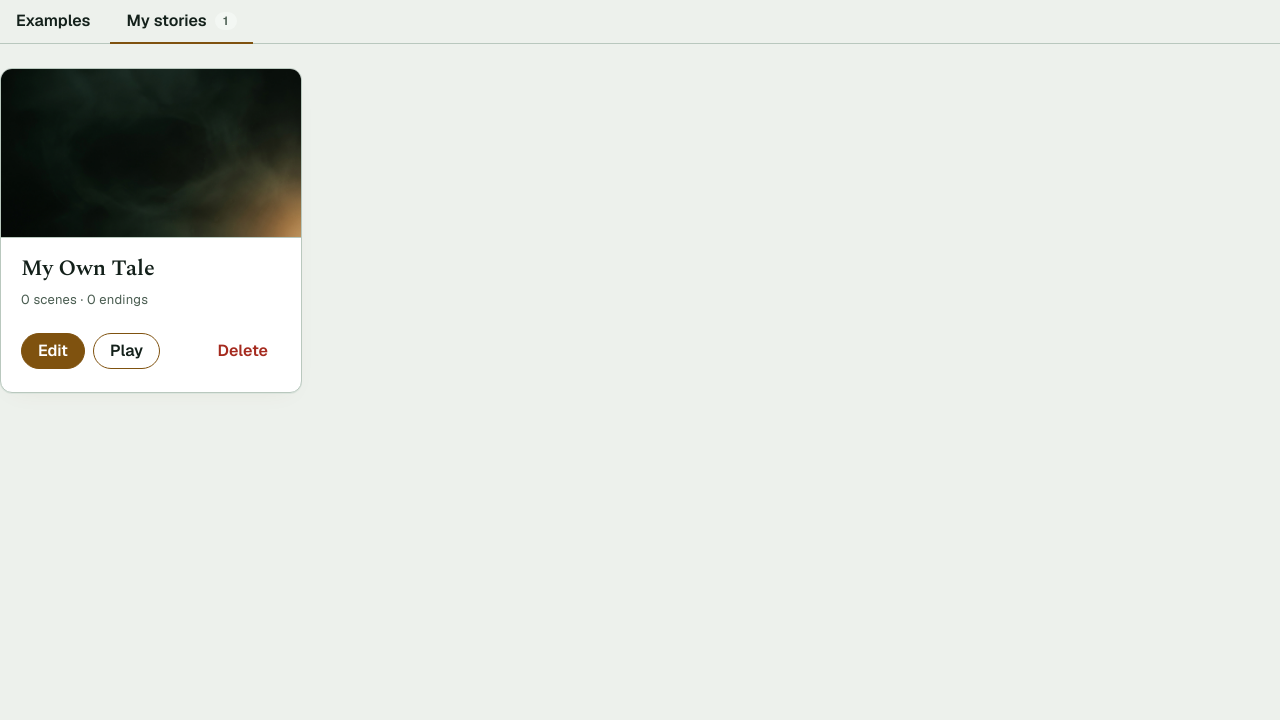
LibraryTabs › asks for confirmation in a dialog and keeps the story on Cancel
Click the button with aria-label "Delete My Own Tale" at (243, 351), box [204,330,281,372]
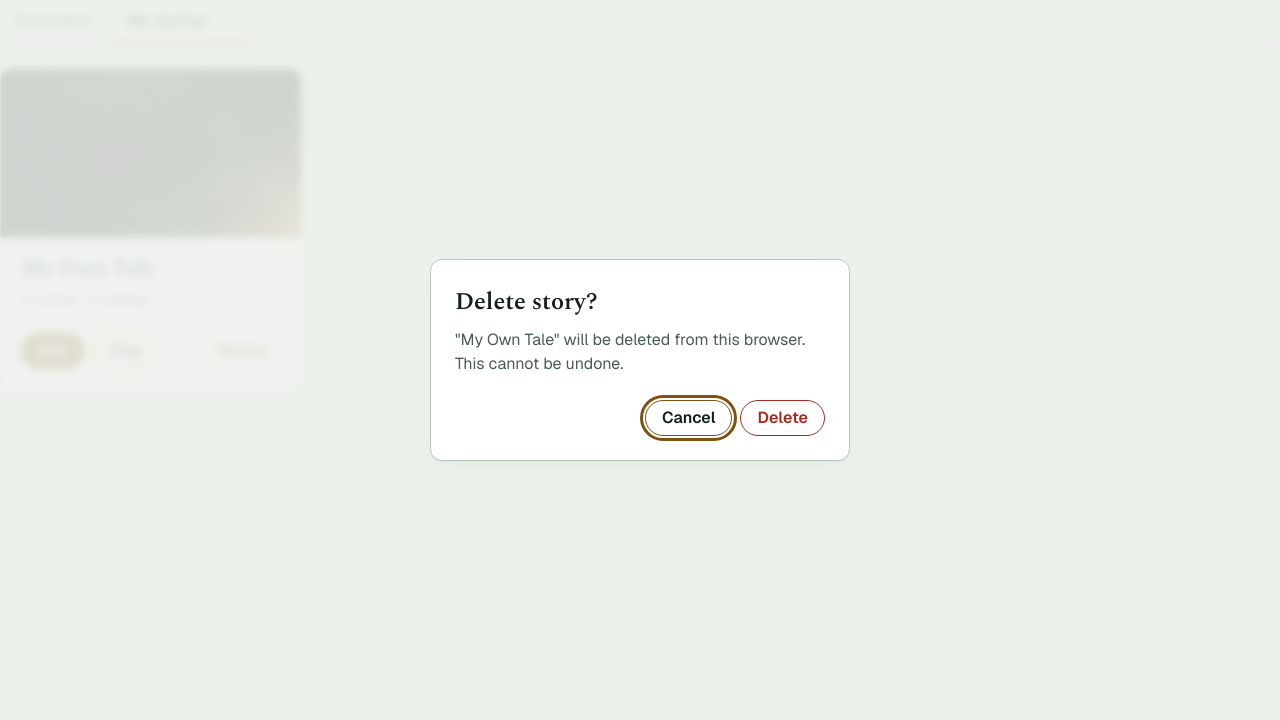
Click the button "Cancel" at (689, 418), box [645,400,732,436]
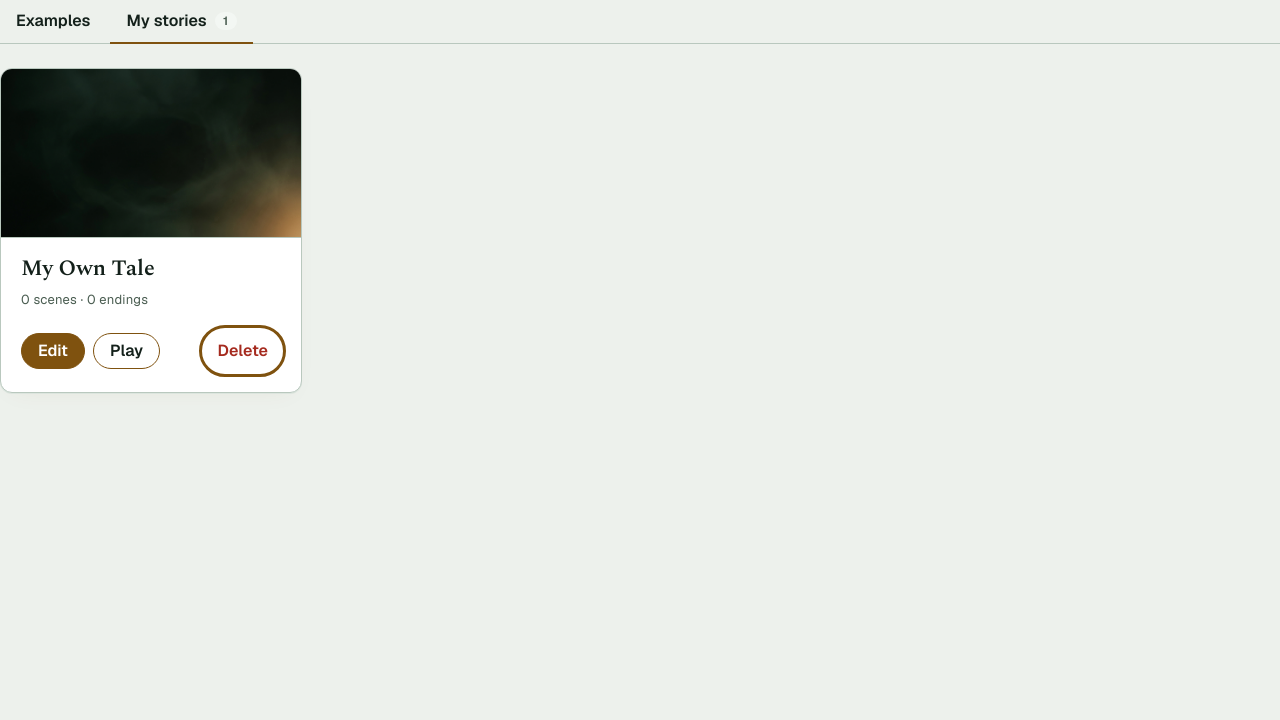
expect the heading "My Own Tale" is shown: met, box [21,252,155,285]
expect the dialog is gone: met
